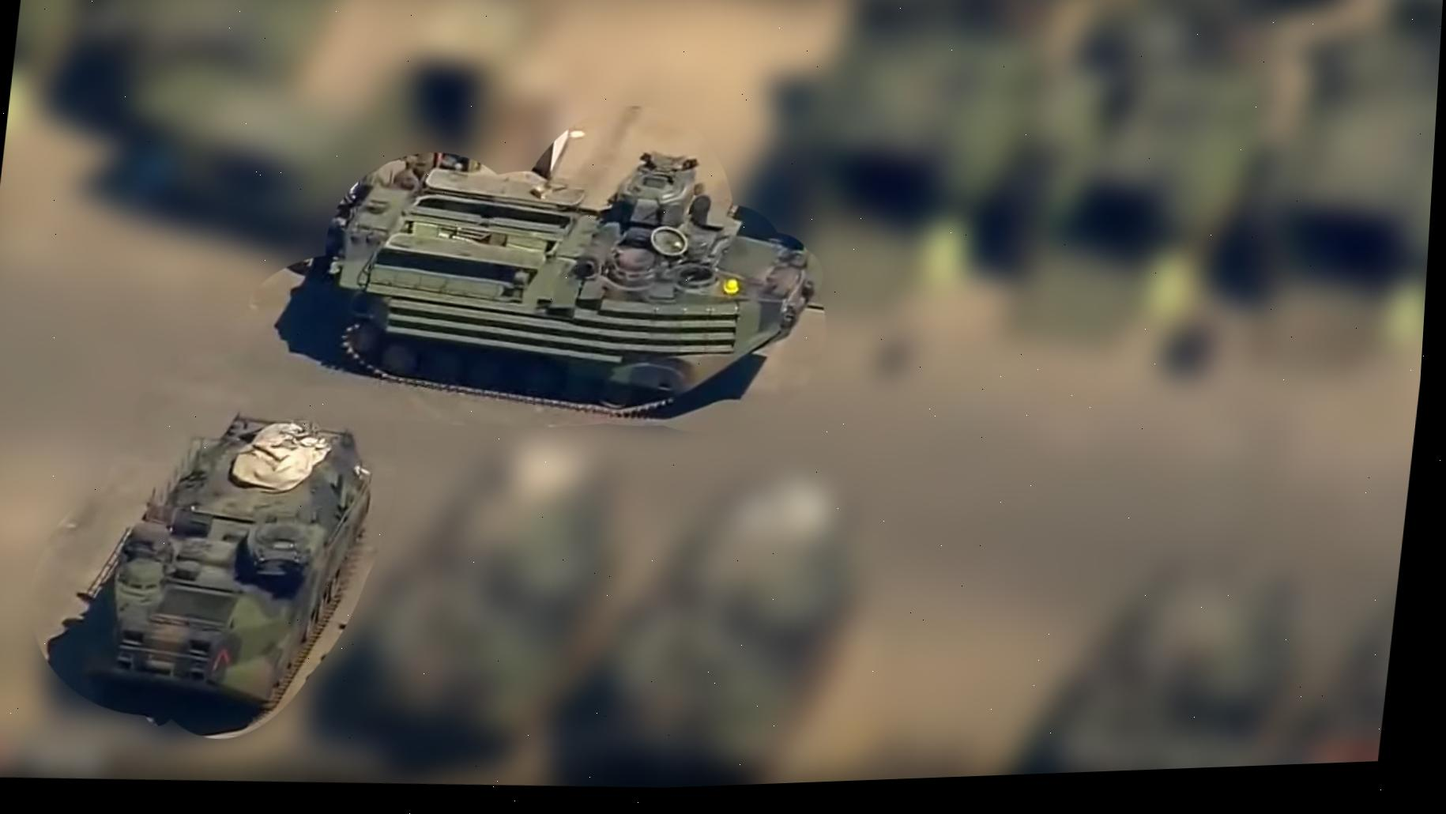armored_car: (304, 123, 837, 444), (61, 397, 392, 740)
